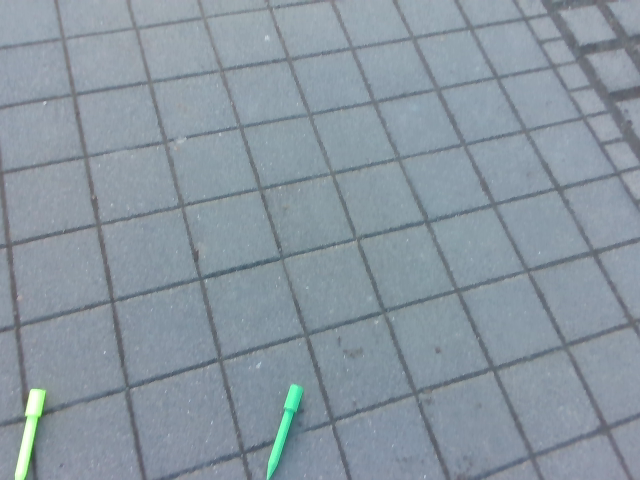Probe: (261, 382, 311, 480), (10, 382, 46, 480)
